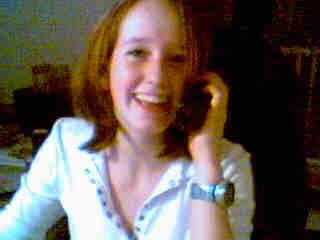person: (1, 1, 258, 240)
